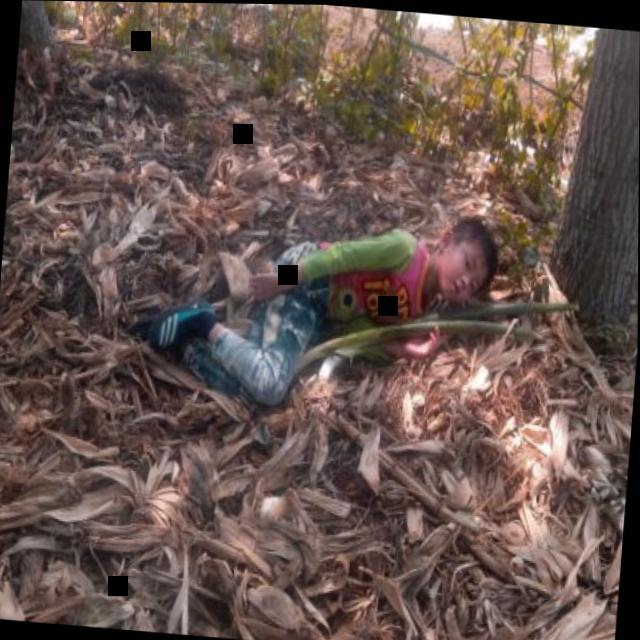Fall-Detected: (118, 164, 514, 425)
